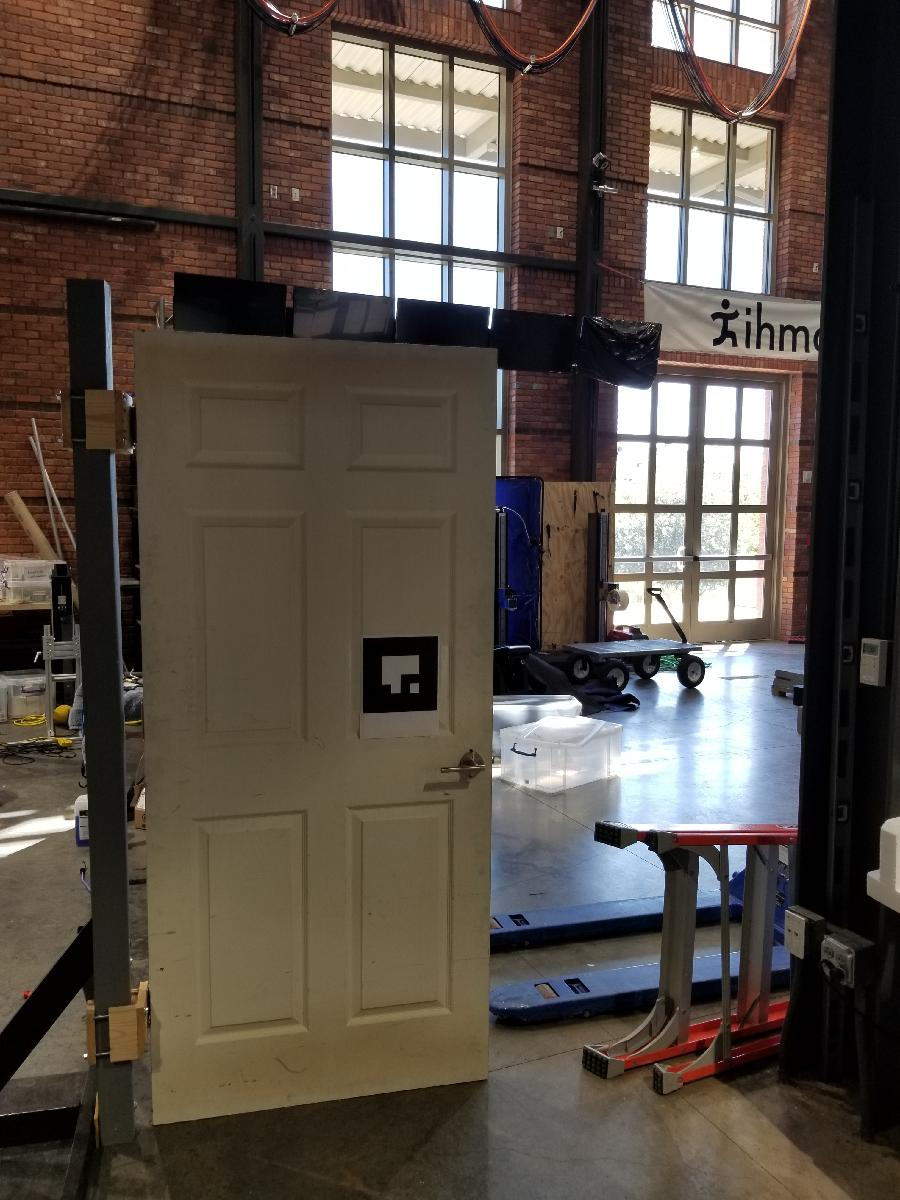door: (126, 324, 500, 1125)
doorHandle: (441, 742, 489, 784)
